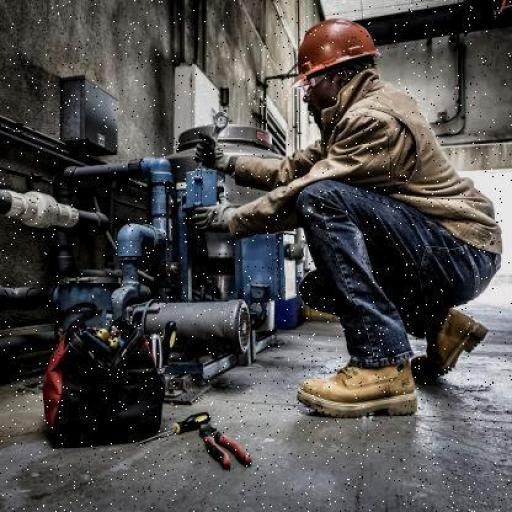person: (233, 14, 502, 433)
safety_shoe: (304, 360, 420, 424), (416, 310, 486, 383)
